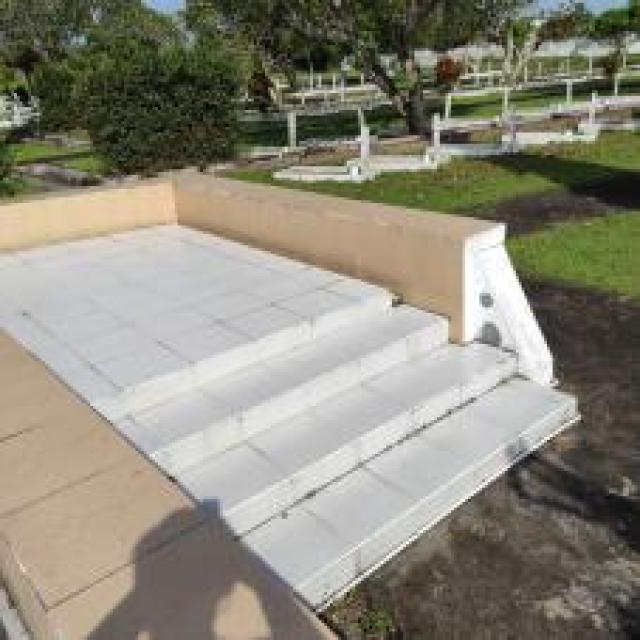upstair: (190, 286, 587, 607)
